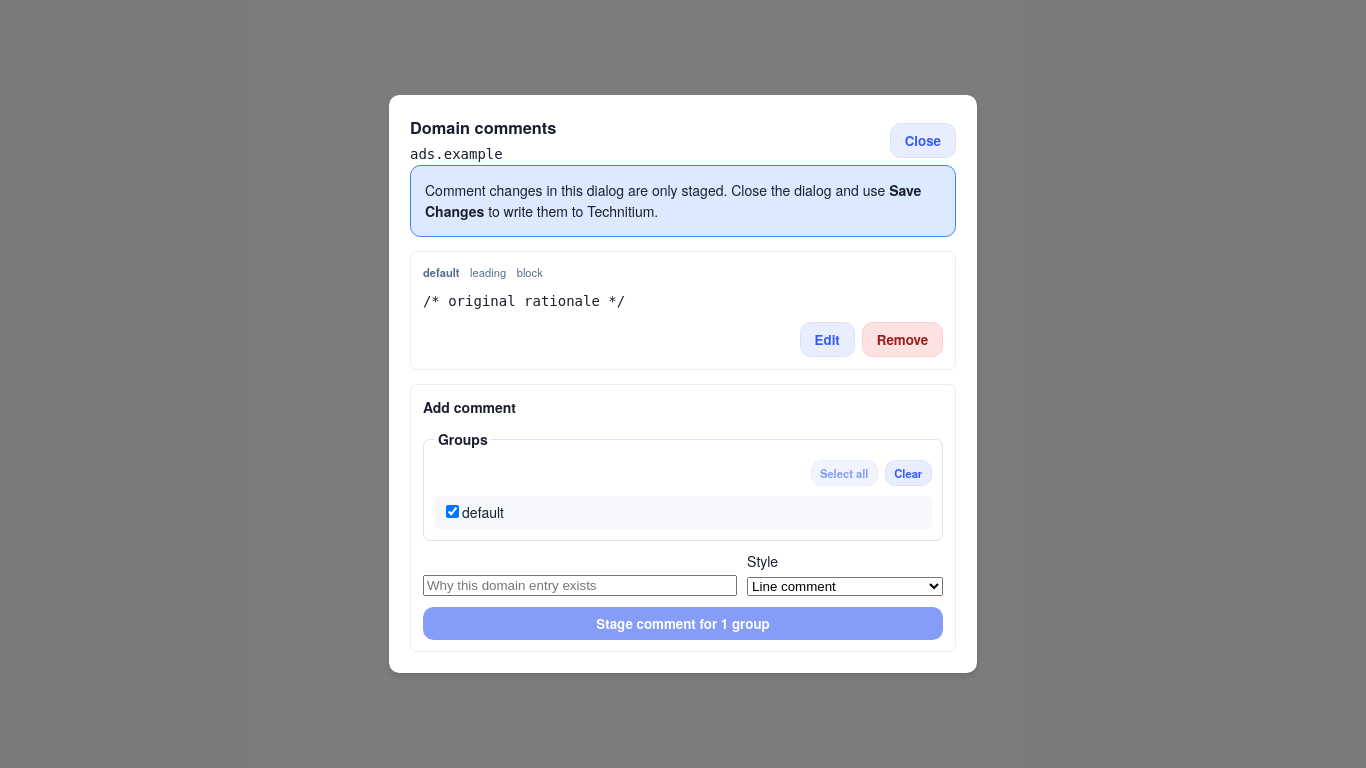
Test: Advanced Blocking comment UI › prevents an unsafe block-comment delimiter from being staged
Click the button "Edit". click: coordinates (827, 340)
box: [800,322,855,357]
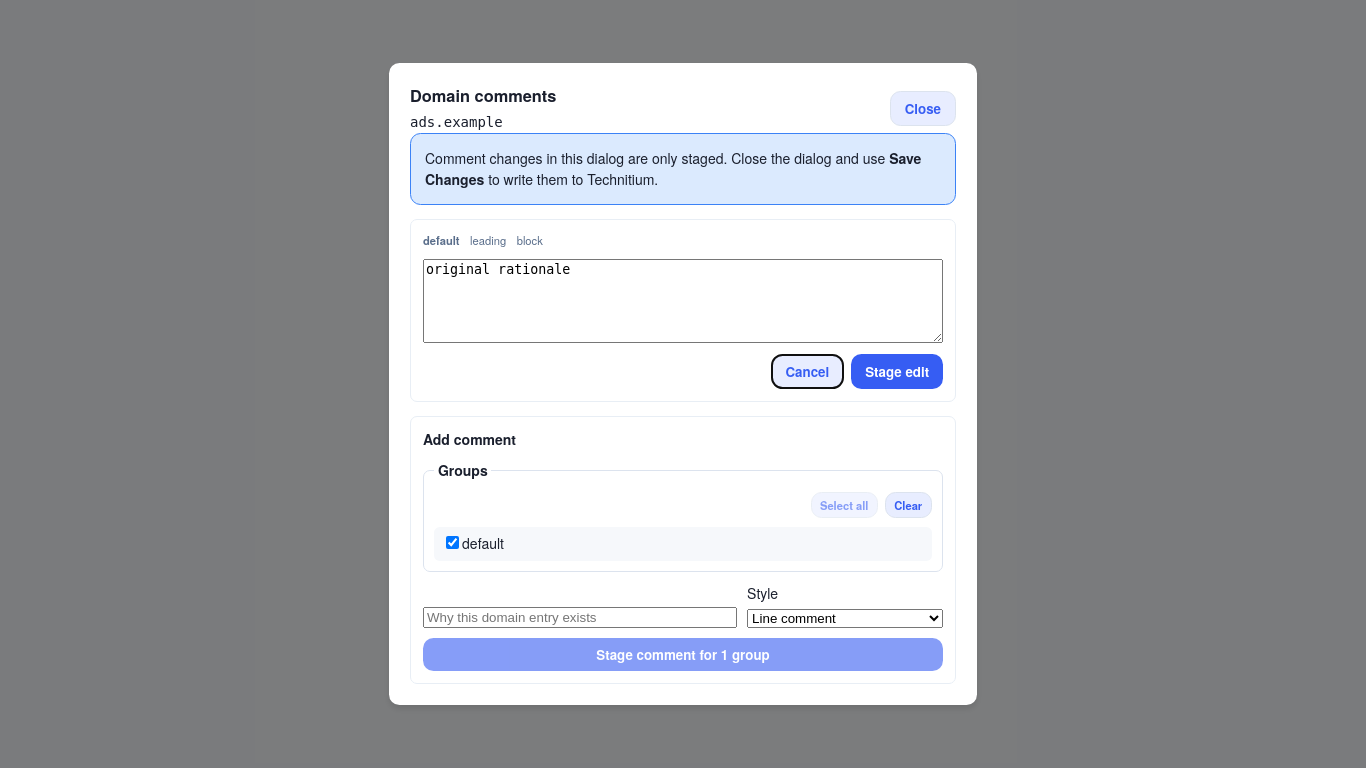
Replace the text in the text box named "Edit comment for default" with "unsafe */ delimiter". click: coordinates (683, 301)
box: [423,259,943,343]
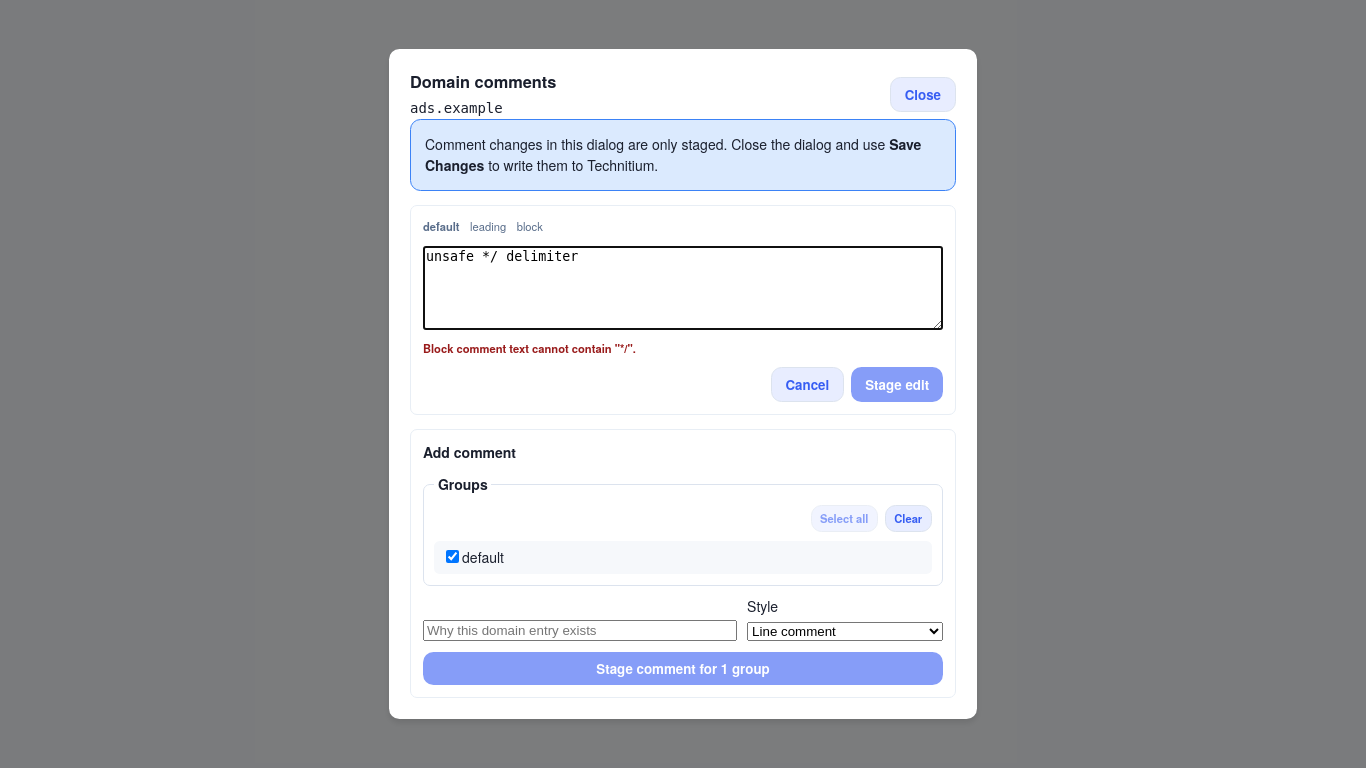
Expected: the button "Stage edit" is disabled, [851,368,943,402]
Expected: the text "Block comment text cannot contain \"*/\"." is shown, [423,340,636,356]
